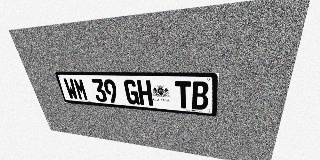3: (91, 79, 108, 102)
9: (103, 79, 119, 103)
B: (192, 81, 209, 110)
G: (123, 80, 140, 105)
H: (136, 80, 153, 106)
M: (73, 78, 89, 101)
T: (175, 81, 191, 109)
W: (63, 78, 79, 100)
